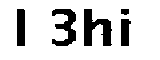3: (47, 6, 79, 51)
h: (82, 5, 114, 50)
i: (118, 6, 136, 49)
l: (10, 8, 35, 52)
